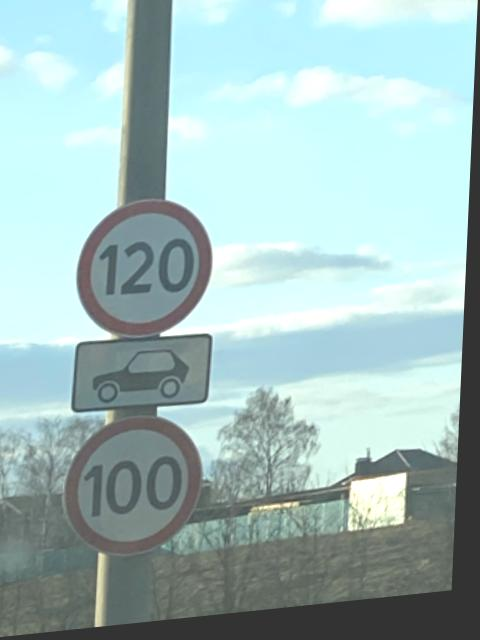limit100: (62, 412, 217, 571)
limit120: (66, 188, 224, 351)
